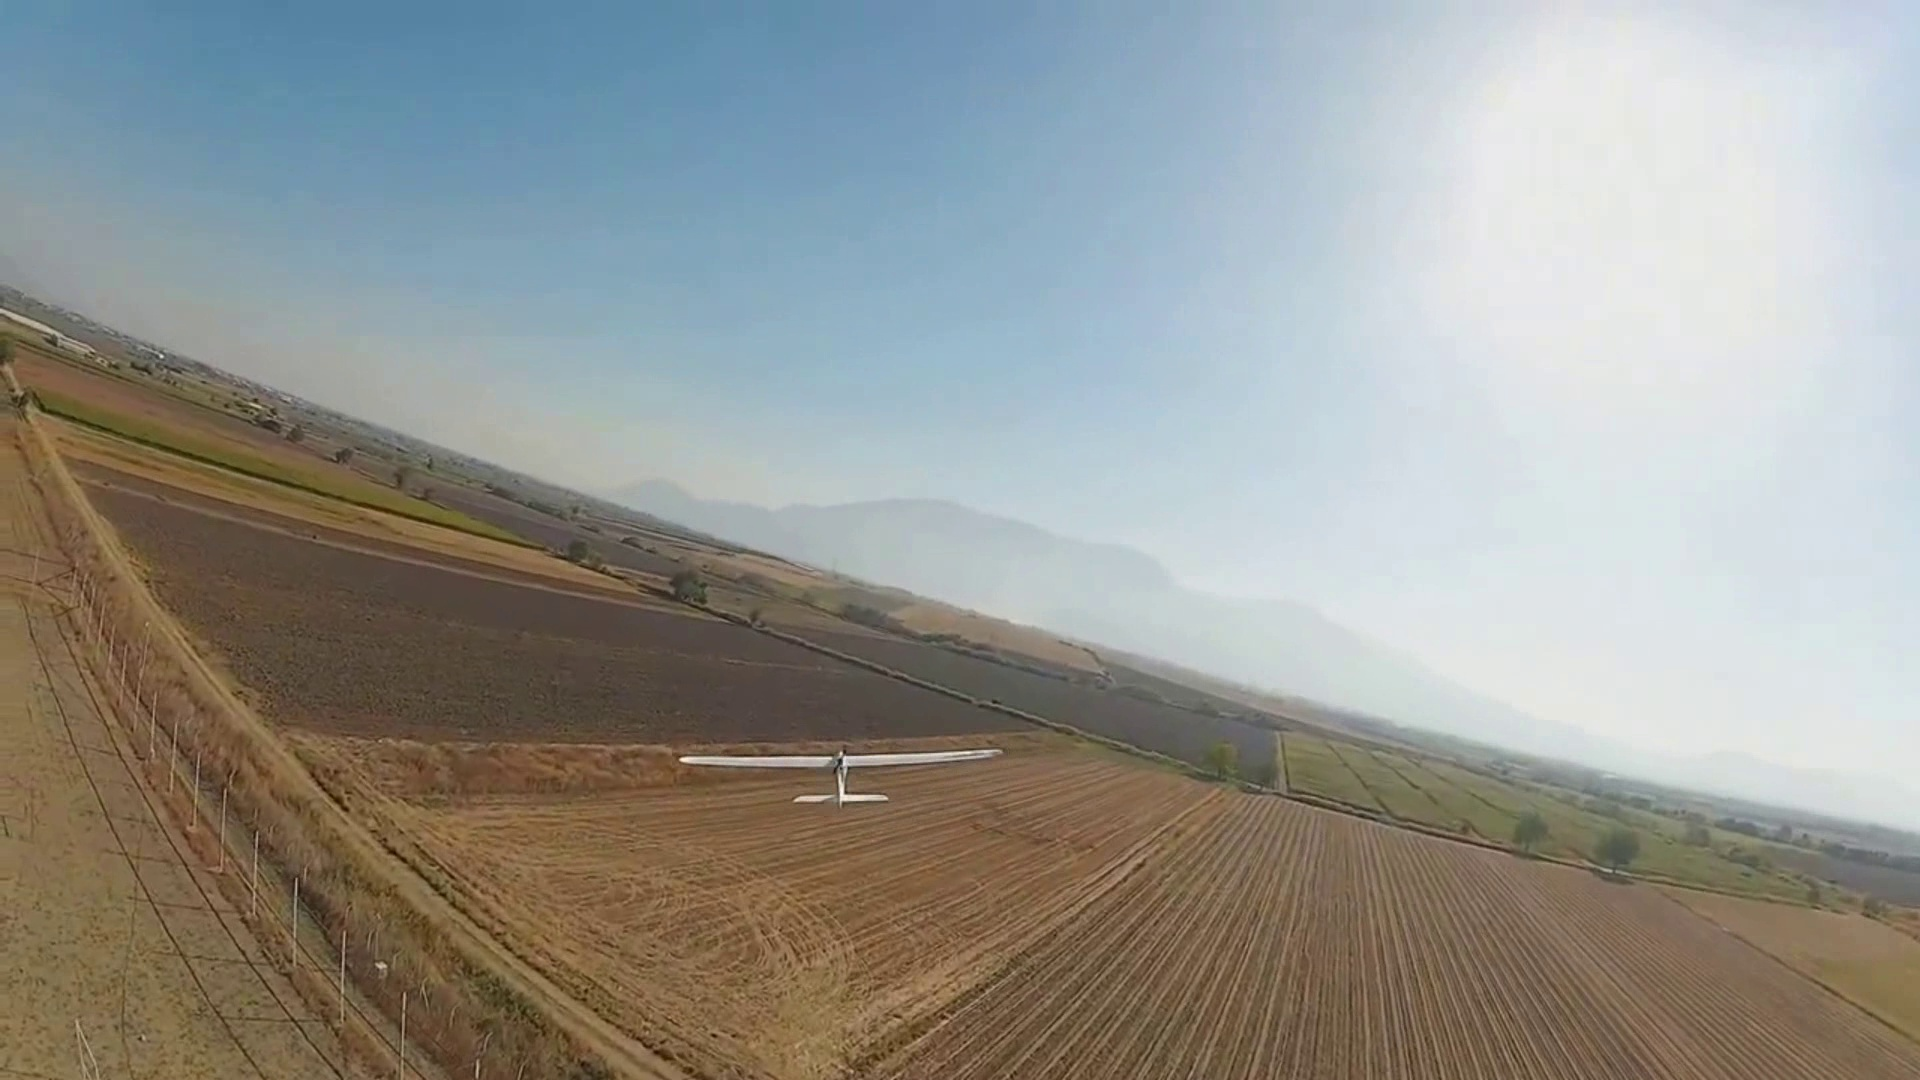airplane: (5, 298, 1915, 885)
